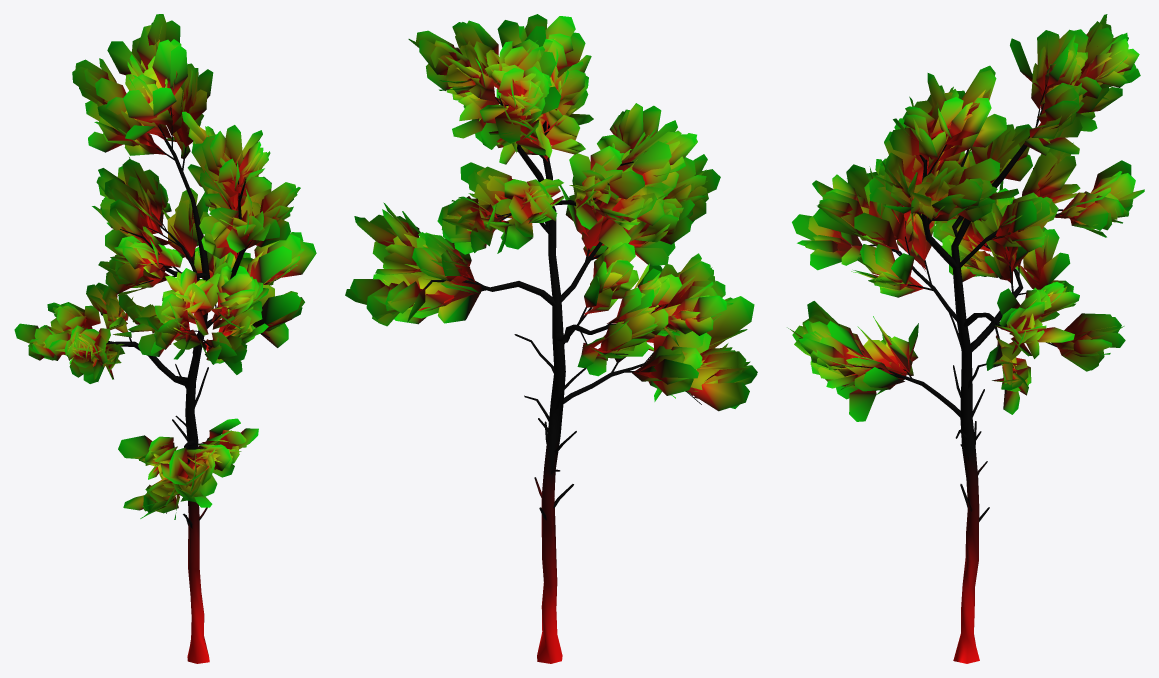
File: Pine_1_LOD_1.fbx
The picture shows the model from 3 angles, left to right: view 1: azimuth 30°, elevation 25°; view 2: azimuth 150°, elevation 25°; view 3: azimuth 270°, elevation 25°; orthographic projection. The views are drawn at different scales.
Parts seen in each view (by area): view 1: Pine_1_LOD_1; view 2: Pine_1_LOD_1; view 3: Pine_1_LOD_1.
Boxes of the visible parts, <box> form: Pine_1_LOD_1: <box>14,14,316,663</box>; Pine_1_LOD_1: <box>345,14,757,663</box>; Pine_1_LOD_1: <box>787,14,1144,663</box>.
Bounding box in the file's own units: 21.04 × 37.94 × 19.37.
